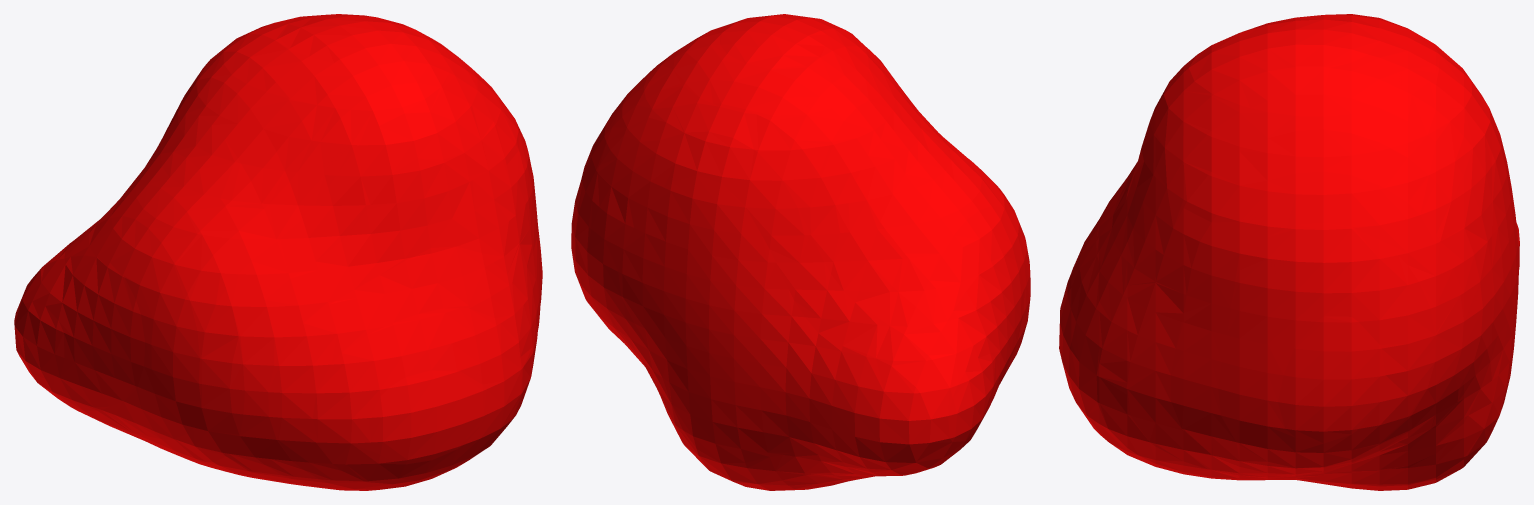
Rendered from Chromogranin_A_Beta_granin_coarse.dae.
3 views of the same model, side by side, from view 1: azimuth 30°, elevation 25°; view 2: azimuth 150°, elevation 25°; view 3: azimuth 270°, elevation 25° (orthographic). The views are drawn at different scales.
Parts seen in each view (by area): view 1: Chromogranin_A_Beta_granin; view 2: Chromogranin_A_Beta_granin; view 3: Chromogranin_A_Beta_granin.
Boxes of the visible parts, <box> form: Chromogranin_A_Beta_granin: <box>14,14,542,490</box>; Chromogranin_A_Beta_granin: <box>571,14,1030,490</box>; Chromogranin_A_Beta_granin: <box>1059,14,1519,490</box>.
Size of the model in its own units: 22.53 by 20.88 by 18.55.
